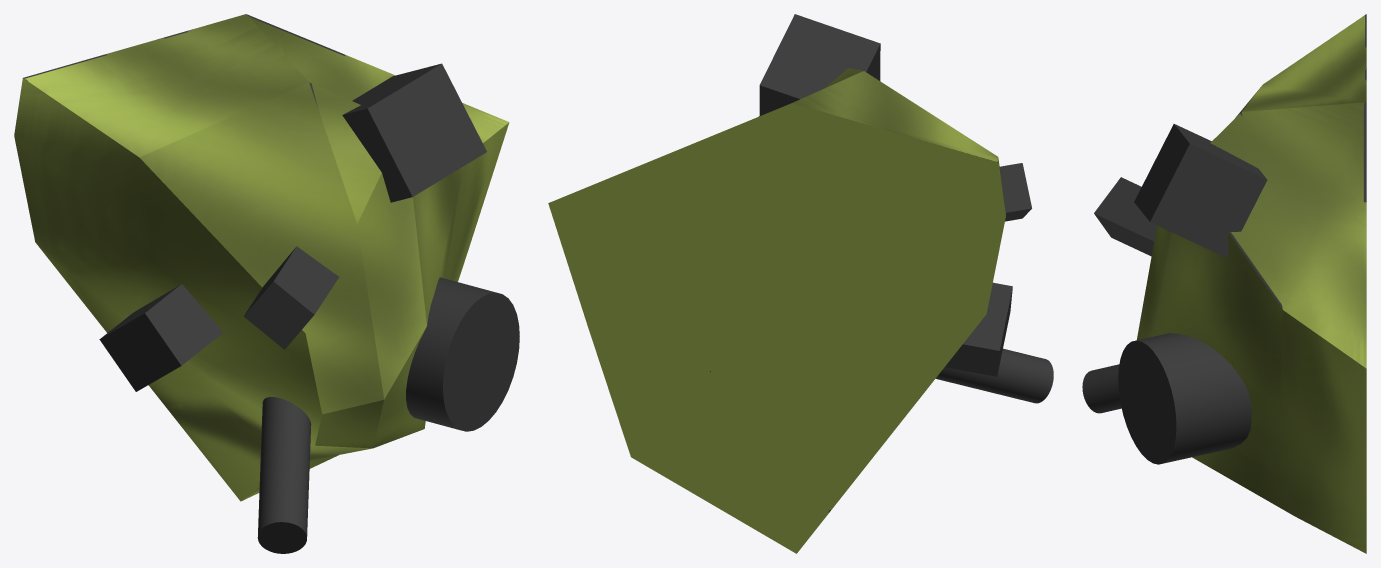
File: trash.obj
The picture shows the model from 3 angles, left to right: view 1: azimuth 30°, elevation 25°; view 2: azimuth 150°, elevation 25°; view 3: azimuth 270°, elevation 25°; orthographic projection. The views are drawn at different scales.
Parts seen in each view (by area): view 1: Cube; view 2: Cube; view 3: Cube.
Boxes of the visible parts, <box> form: Cube: <box>14,14,519,553</box>; Cube: <box>548,14,1053,553</box>; Cube: <box>1082,14,1366,553</box>.
Bounding box in the file's own units: 11.75 × 11.03 × 6.59.
1 material, 1 textured.
